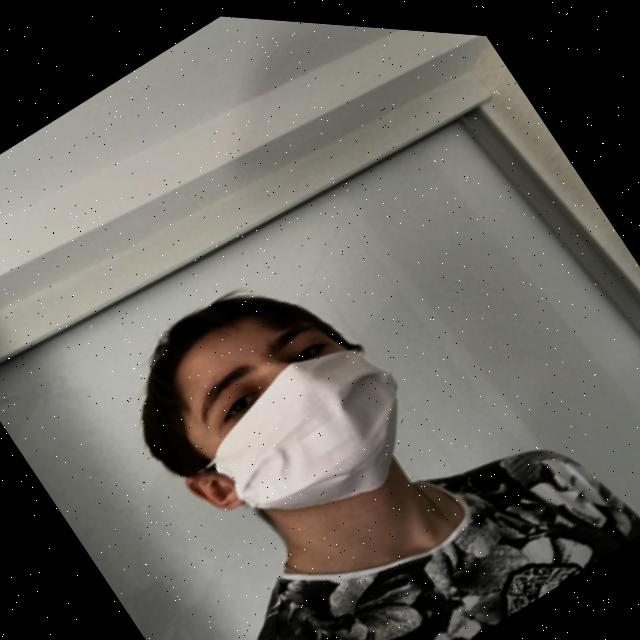Mask: (150, 290, 446, 583)
